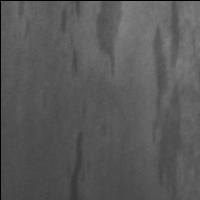inclusion: (151, 2, 195, 198), (95, 1, 126, 81), (64, 127, 92, 200), (58, 2, 85, 41), (12, 2, 34, 41), (67, 31, 84, 79)
